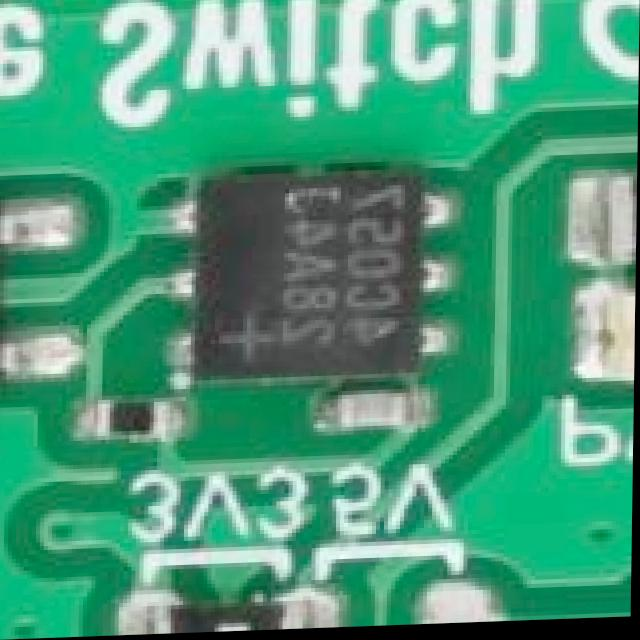IC: (179, 167, 448, 383)
LED: (575, 289, 636, 387)
capacitor: (323, 389, 427, 438)
resistor: (121, 594, 345, 636), (573, 177, 638, 263), (87, 399, 181, 445)
transistor: (0, 198, 78, 392)
